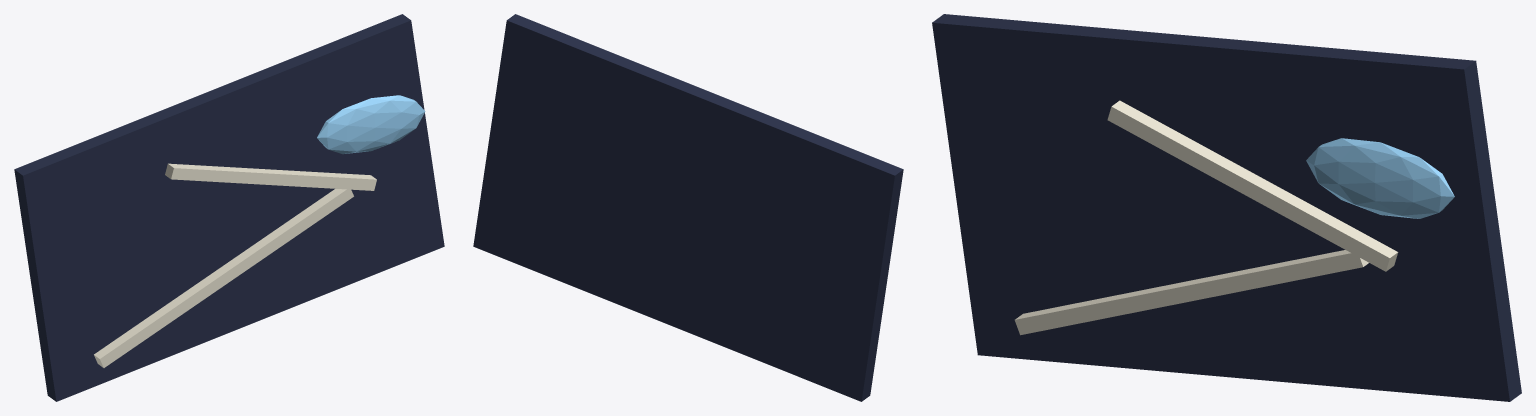
Rendered from 05_weathering_wear_overlay_5.glb.
The picture shows the model from 3 angles, left to right: view 1: azimuth 30°, elevation 25°; view 2: azimuth 150°, elevation 25°; view 3: azimuth 330°, elevation 25°; orthographic projection. The views are drawn at different scales.
Parts seen in each view (by area): view 1: wear_plate, scratch_a, rust_or_moss_spot, scratch_b; view 2: wear_plate; view 3: wear_plate, rust_or_moss_spot, scratch_b, scratch_a.
Part boxes in pixels (x1,y1,x2,y2): wear_plate: (14, 14, 444, 401); scratch_a: (94, 188, 353, 367); rust_or_moss_spot: (317, 95, 425, 154); scratch_b: (165, 163, 376, 190); wear_plate: (473, 14, 903, 401); wear_plate: (932, 14, 1521, 401); rust_or_moss_spot: (1306, 138, 1454, 218); scratch_b: (1107, 100, 1398, 271); scratch_a: (1014, 250, 1368, 335).
Size of the model in its own units: 1.4 by 0.9336 by 0.134.
